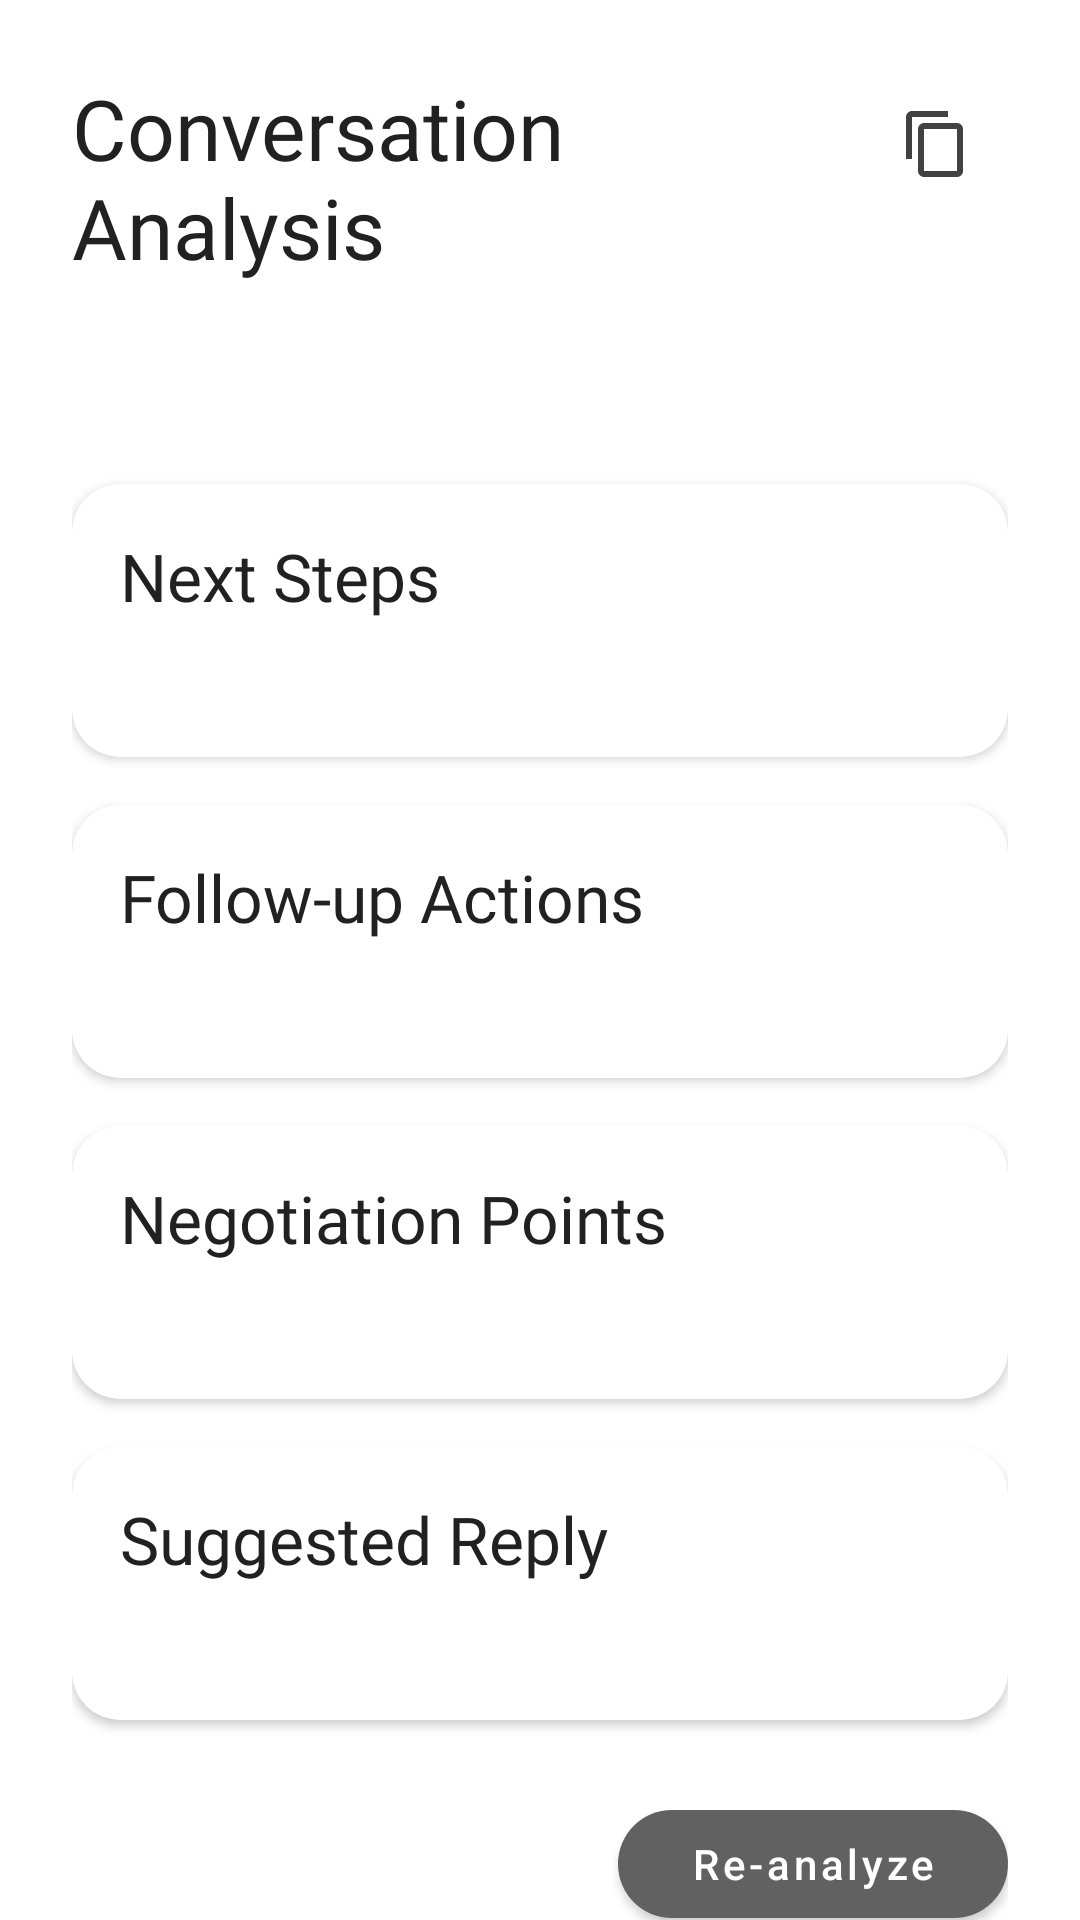

Where icons sit on this 1080 x 1920 app screen, as [left=x1, top=y1, right=x2, bottom=y2]:
Copy analysis: [left=906, top=111, right=963, bottom=177]
